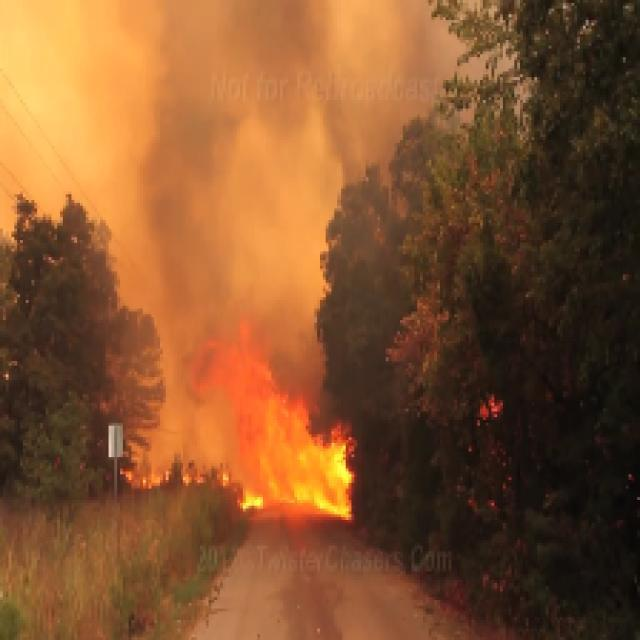Fire: (74, 225, 486, 638)
Smoke: (0, 0, 489, 317)
